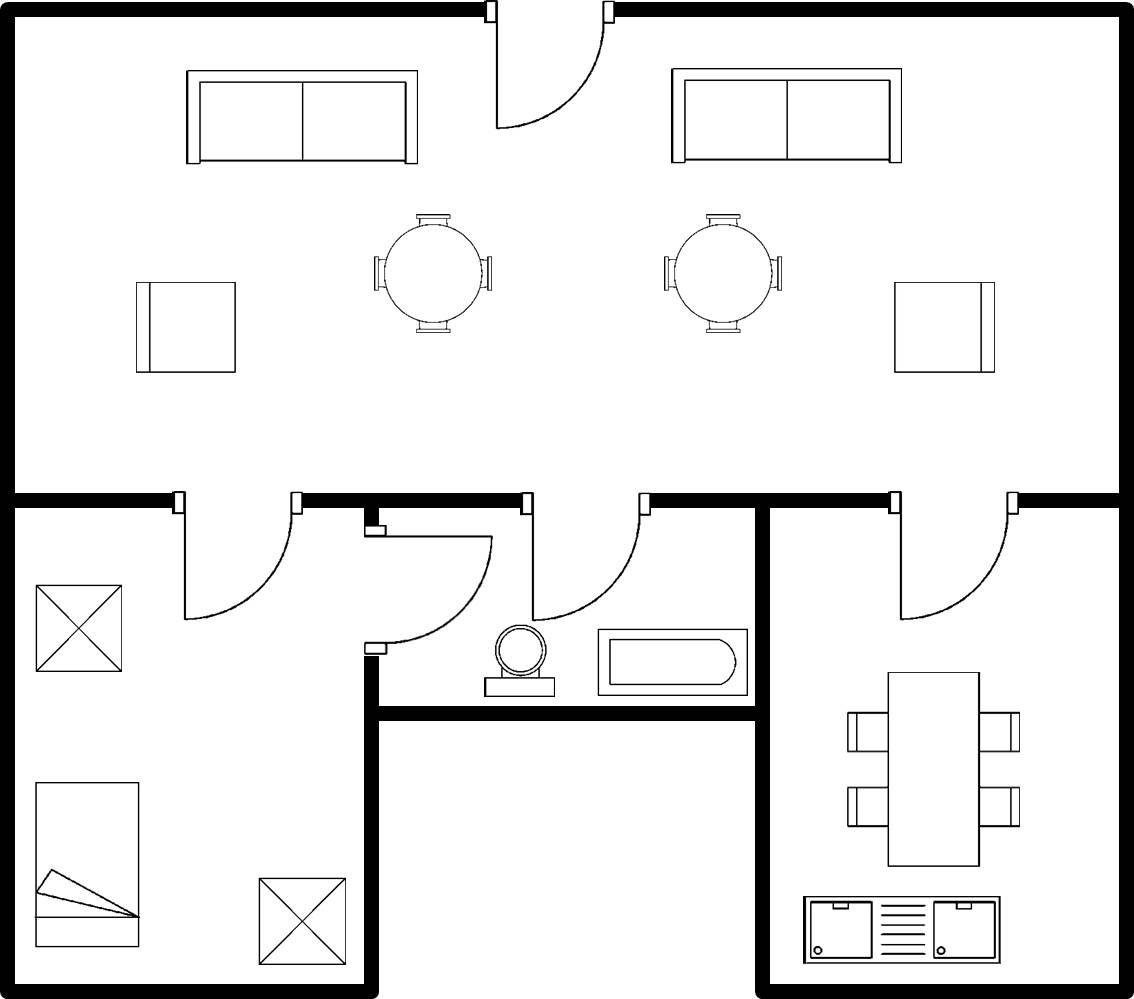sink: (794, 887, 1008, 970)
